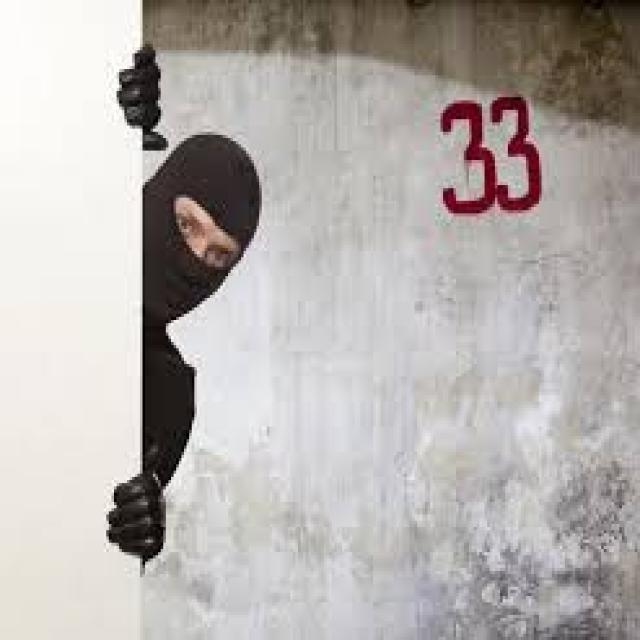person-with-mask: (6, 0, 410, 640)
